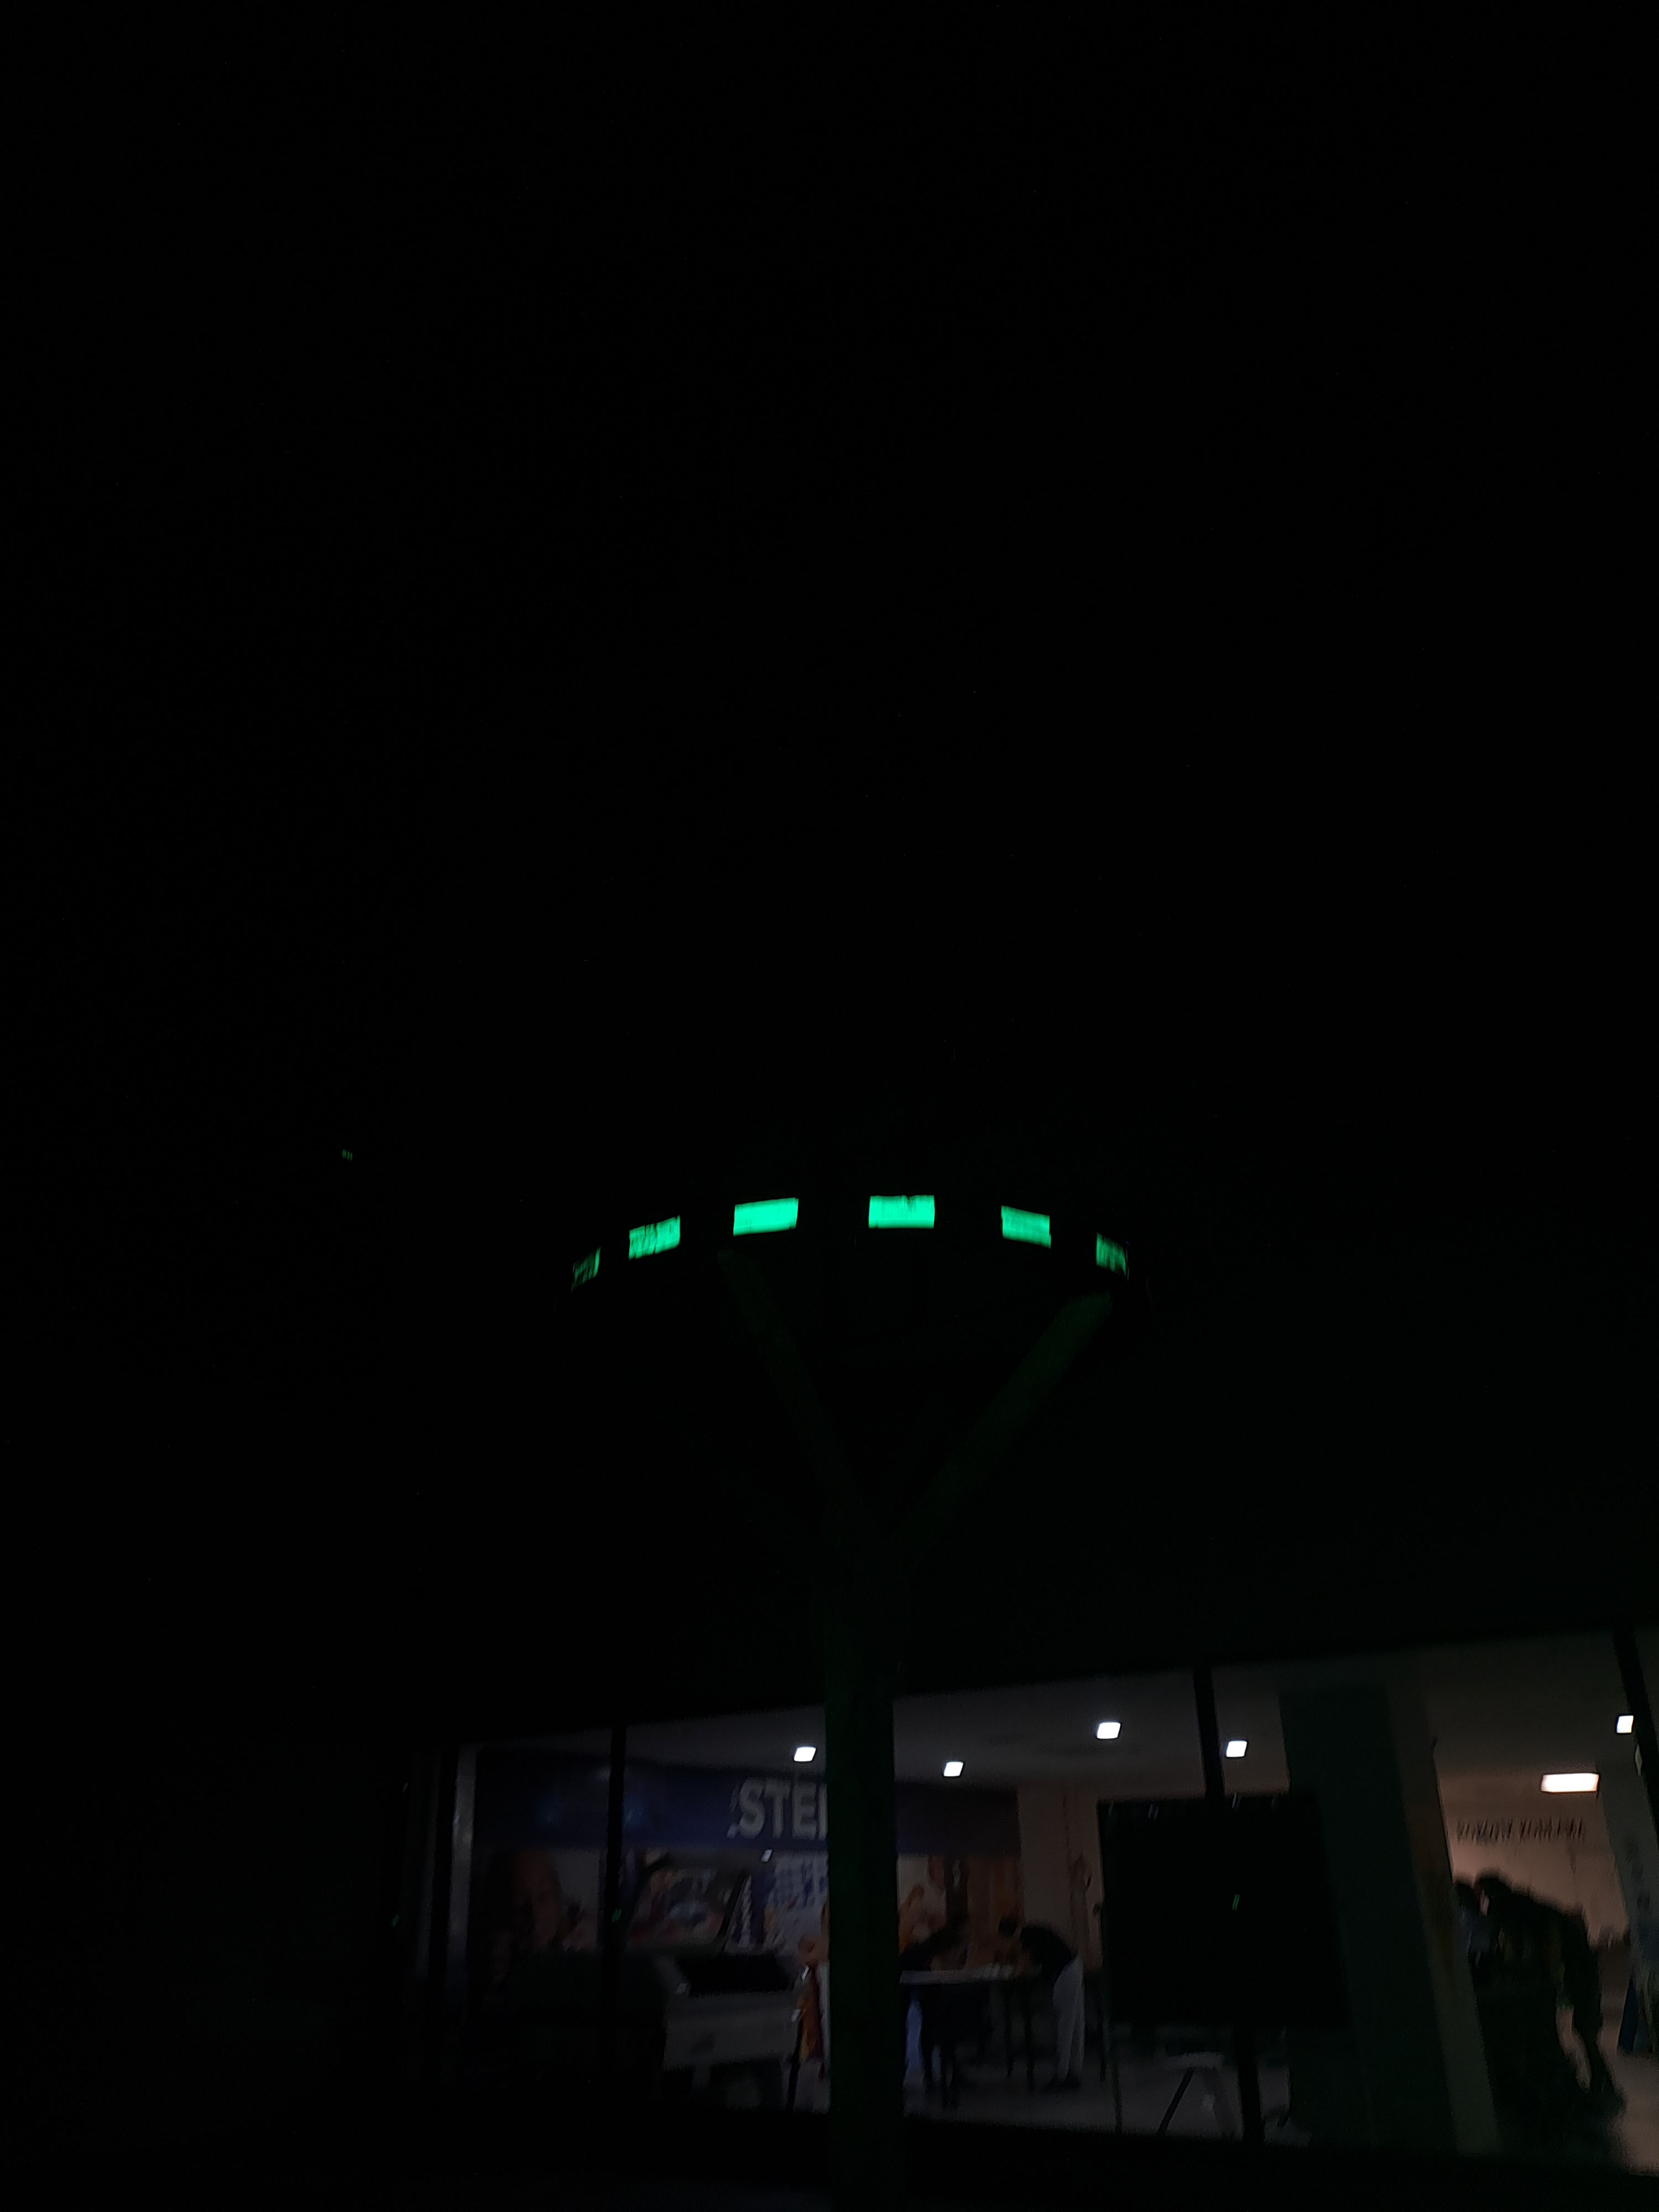hoop: (570, 1190, 1129, 1285)
